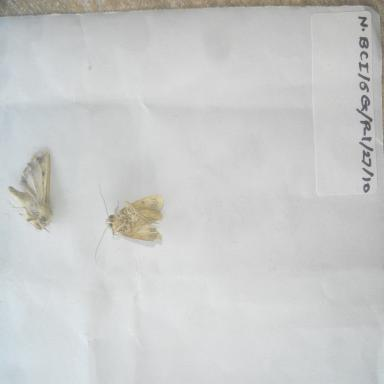abw: (90, 184, 167, 265), (5, 144, 60, 237)
